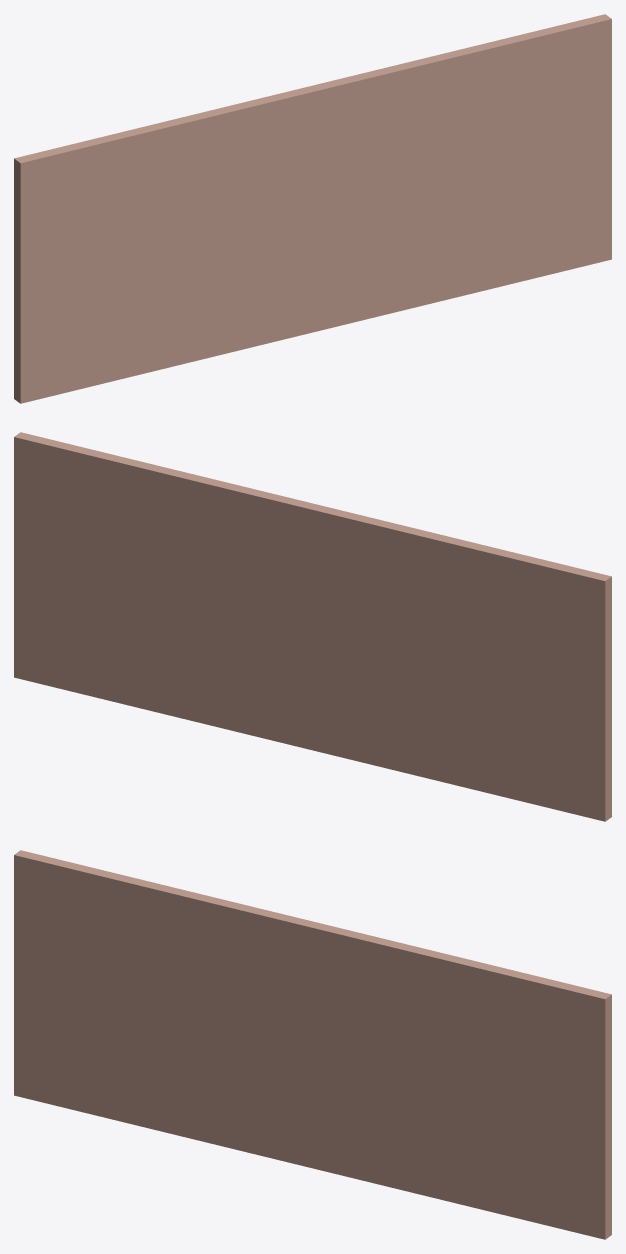
File: synthetic-bracket-unfolded.glb
3 renders of one model, top to bottom at view 1: azimuth 30°, elevation 25°; view 2: azimuth 150°, elevation 25°; view 3: azimuth 330°, elevation 25°, orthographic.
Parts seen in each view (by area): view 1: world; view 2: world; view 3: world.
Boxes of the visible parts, left/top/right/bottom form: world: left=14, top=14, right=611, bottom=403; world: left=14, top=432, right=611, bottom=821; world: left=14, top=850, right=611, bottom=1239.
Size of the model in its own units: 154 by 60 by 3.
